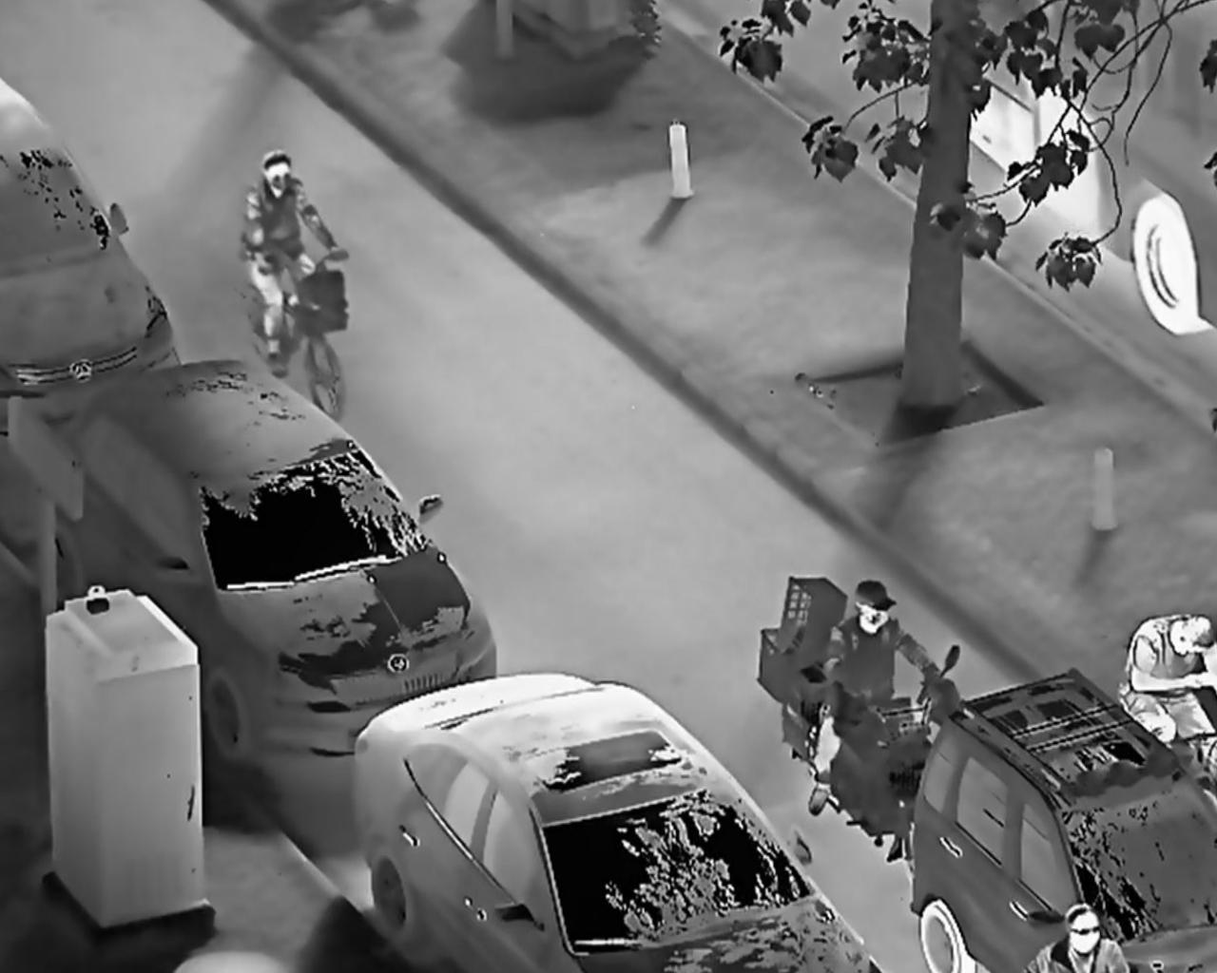person: (805, 580, 945, 819), (235, 144, 349, 370), (1114, 605, 1217, 760), (1021, 896, 1130, 973)
